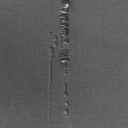slag inclusion: (46, 0, 73, 128), (62, 100, 72, 120), (62, 83, 69, 96)
